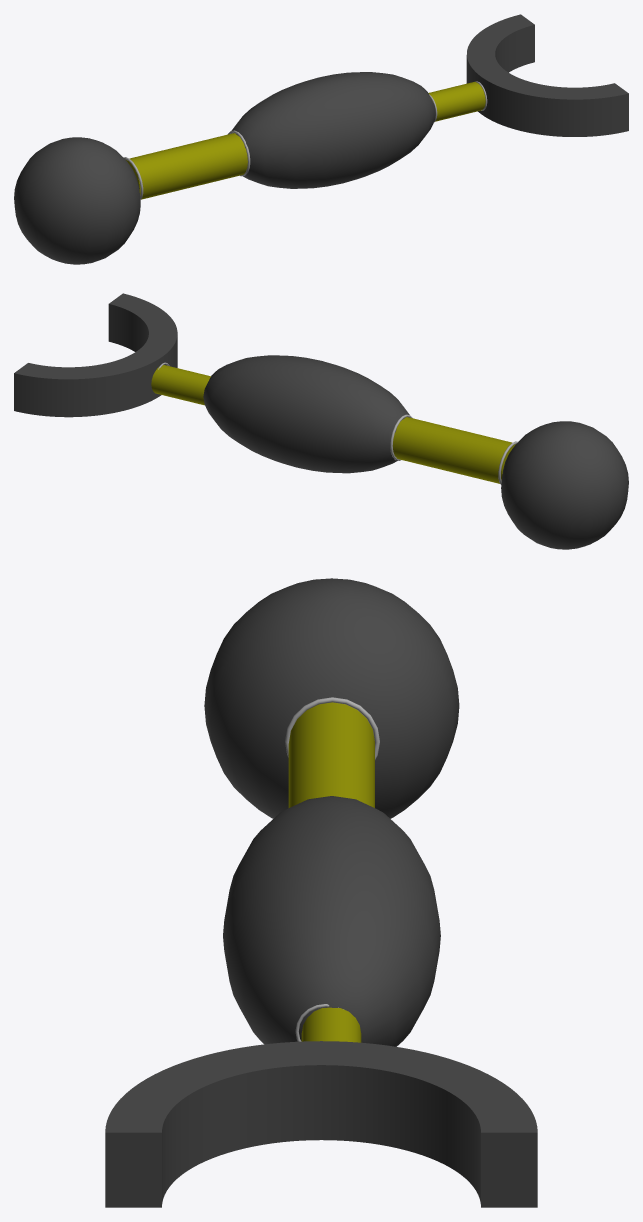
File: ChedLeftArm.fbx
3 views of the same model, one above another, from view 1: azimuth 30°, elevation 25°; view 2: azimuth 150°, elevation 25°; view 3: azimuth 270°, elevation 25° (orthographic). The views are drawn at different scales.
Visible parts, largest first — view 1: ChedLeftArm; view 2: ChedLeftArm; view 3: ChedLeftArm.
Part boxes in pixels (x1,y1,x2,y2): ChedLeftArm: [14, 14, 628, 264]; ChedLeftArm: [14, 293, 628, 549]; ChedLeftArm: [105, 578, 537, 1207].
Size of the model in its own units: 1.51 by 0.3031 by 0.5134.
